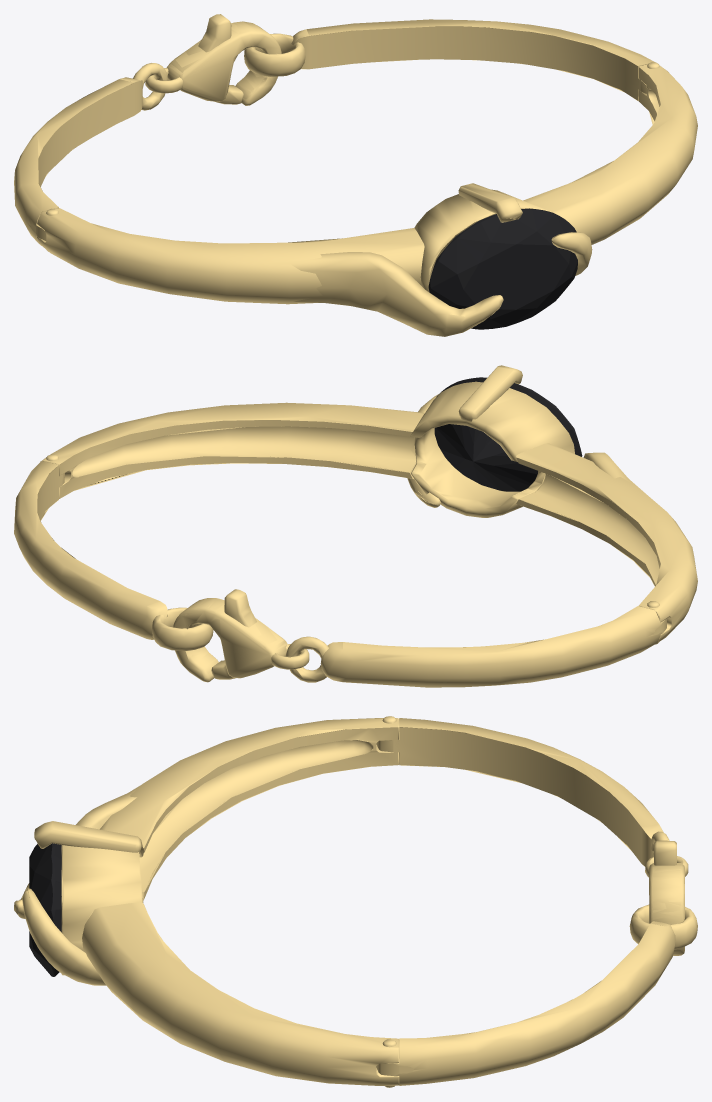
The model's file is bracelet.glb.
3 renders of one model, top to bottom at view 1: azimuth 30°, elevation 25°; view 2: azimuth 150°, elevation 25°; view 3: azimuth 270°, elevation 25°, orthographic. The views are drawn at different scales.
Visible parts, largest first — view 1: Band, DiamondGem_Topaz; view 2: Band, DiamondGem_Topaz; view 3: Band, DiamondGem_Topaz.
Boxes of the visible parts, x1,y1,x2,y2 form: Band: [14, 14, 697, 336]; DiamondGem_Topaz: [428, 208, 577, 329]; Band: [14, 365, 697, 687]; DiamondGem_Topaz: [434, 377, 582, 491]; Band: [14, 716, 697, 1087]; DiamondGem_Topaz: [29, 843, 61, 976].
Size of the model in its own units: 0.0586 by 0.0113 by 0.0503.
